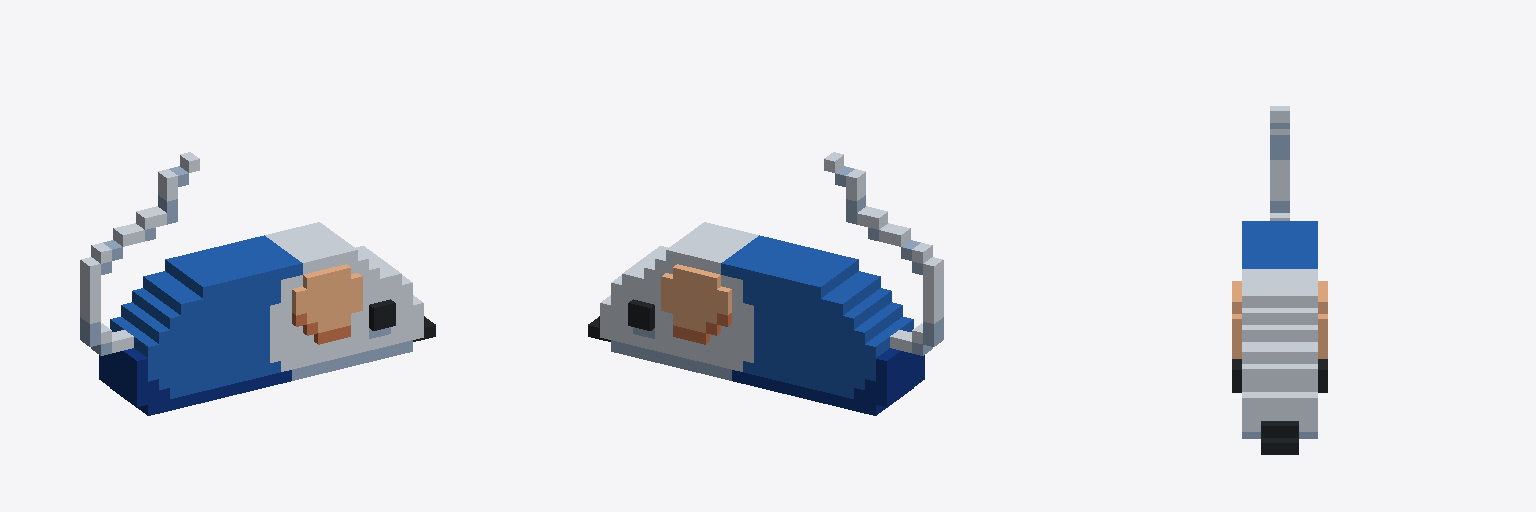
File: CatToy.obj
The picture shows the model from 3 angles: view 1: azimuth 30°, elevation 25°; view 2: azimuth 150°, elevation 25°; view 3: azimuth 270°, elevation 25°; orthographic projection.
Size of the model in its own units: 31 by 20 by 7.5.